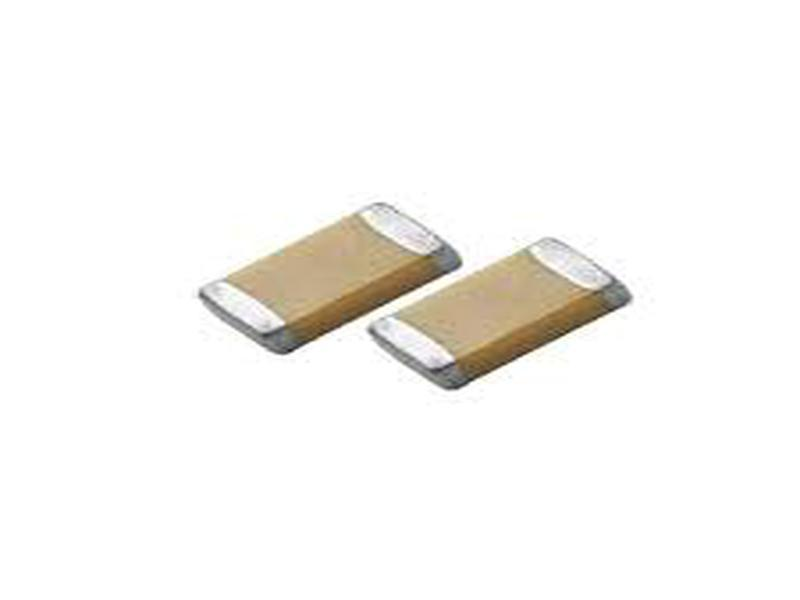SMD capacitor: (202, 191, 450, 364)
